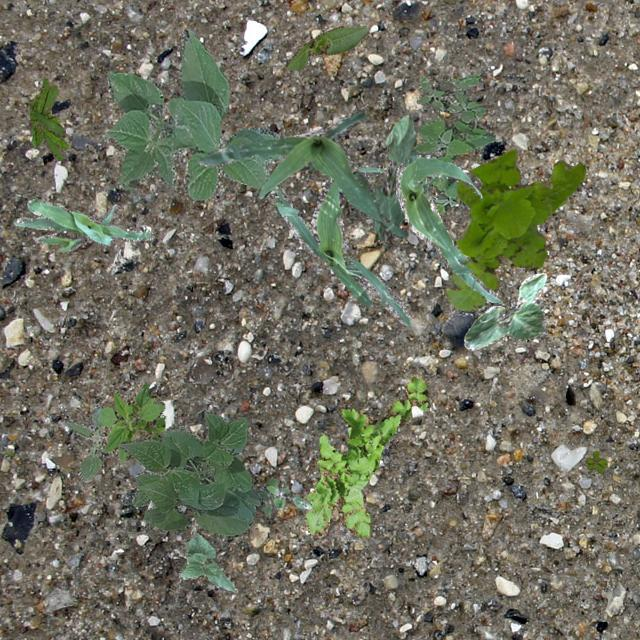crop: (102, 28, 280, 200), (196, 109, 407, 238), (268, 162, 411, 326), (118, 408, 260, 534), (394, 154, 502, 302), (12, 198, 152, 252), (462, 272, 546, 351), (372, 114, 416, 240), (286, 24, 368, 70), (178, 530, 235, 592)
weed: (442, 148, 584, 310), (304, 372, 428, 538), (412, 73, 494, 214), (100, 380, 164, 460), (28, 76, 68, 160), (64, 402, 104, 482), (258, 476, 310, 514), (584, 450, 606, 472)
